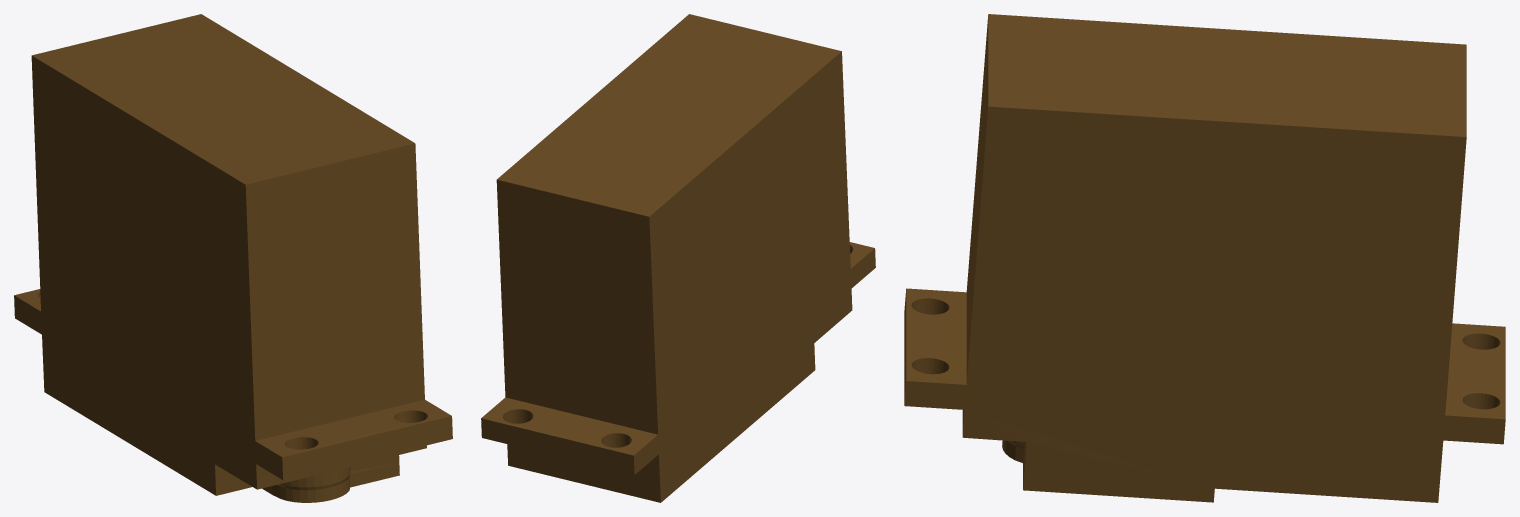
File: right_shoulder_y_link_visual_1.obj
3 renders of one model, left to right at view 1: azimuth 30°, elevation 25°; view 2: azimuth 150°, elevation 25°; view 3: azimuth 270°, elevation 25°, orthographic. The views are drawn at different scales.
Parts seen in each view (by area): view 1: i01.rightArm.omoplate.full.002_visual.001; view 2: i01.rightArm.omoplate.full.002_visual.001; view 3: i01.rightArm.omoplate.full.002_visual.001.
Boxes of the visible parts, left/top/right/bottom form: i01.rightArm.omoplate.full.002_visual.001: left=14, top=14, right=452, bottom=502; i01.rightArm.omoplate.full.002_visual.001: left=481, top=14, right=875, bottom=502; i01.rightArm.omoplate.full.002_visual.001: left=904, top=14, right=1505, bottom=502.
Bounding box in the file's own units: 0.2828 × 0.5644 × 0.7761.
